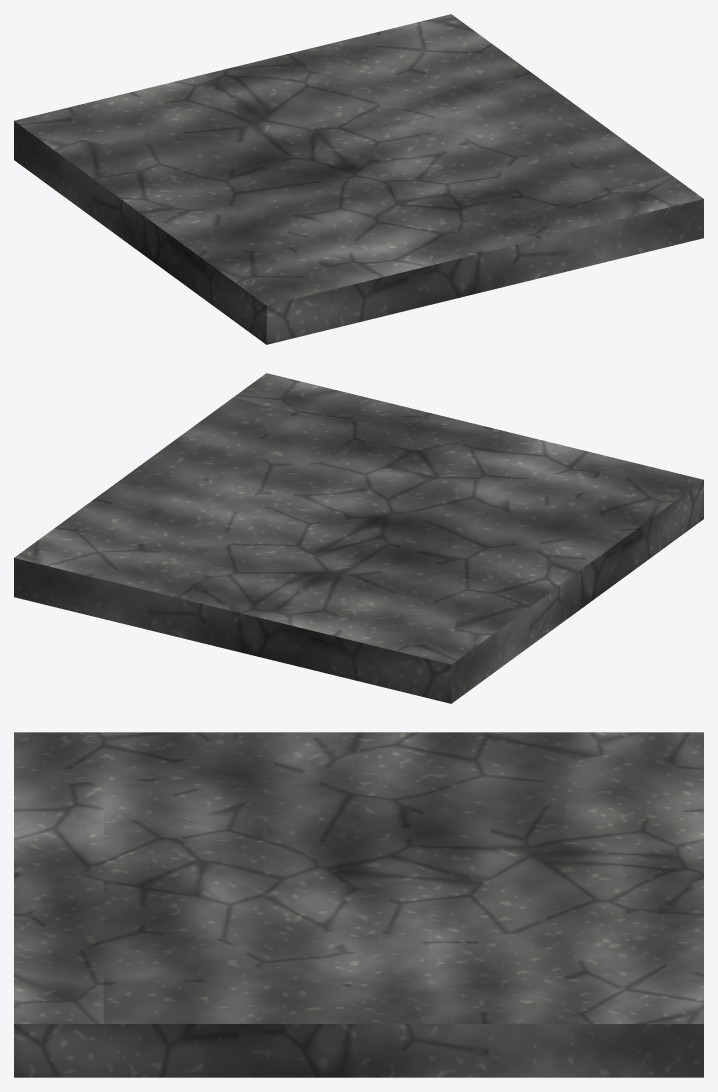
The model's file is kit_floor_cave2.glb.
The picture shows the model from 3 angles, top to bottom: view 1: azimuth 30°, elevation 25°; view 2: azimuth 150°, elevation 25°; view 3: azimuth 270°, elevation 25°; orthographic projection. The views are drawn at different scales.
Visible parts, largest first — view 1: kit_floor_cave2; view 2: kit_floor_cave2; view 3: kit_floor_cave2.
Boxes of the visible parts, x1,y1,x2,y2 form: kit_floor_cave2: (14, 14, 703, 344); kit_floor_cave2: (14, 373, 703, 703); kit_floor_cave2: (14, 732, 703, 1077).
Size of the model in its own units: 2.8 by 0.27 by 2.8.
1 material, 1 textured.
